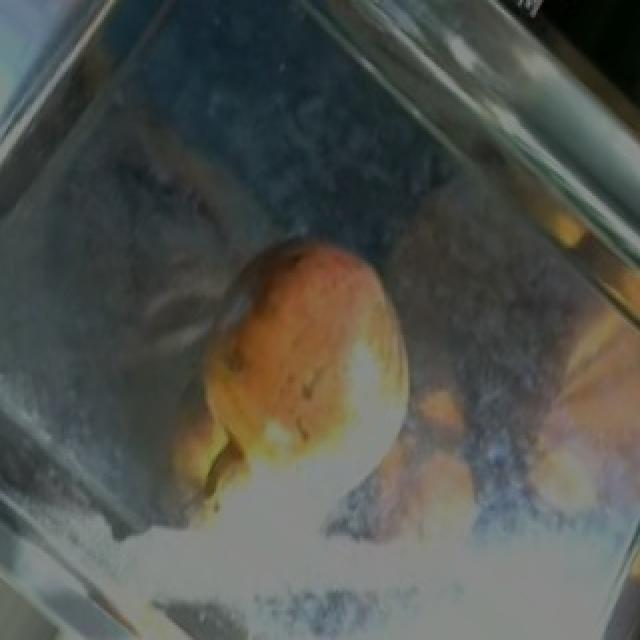fruit: (170, 211, 442, 471)
